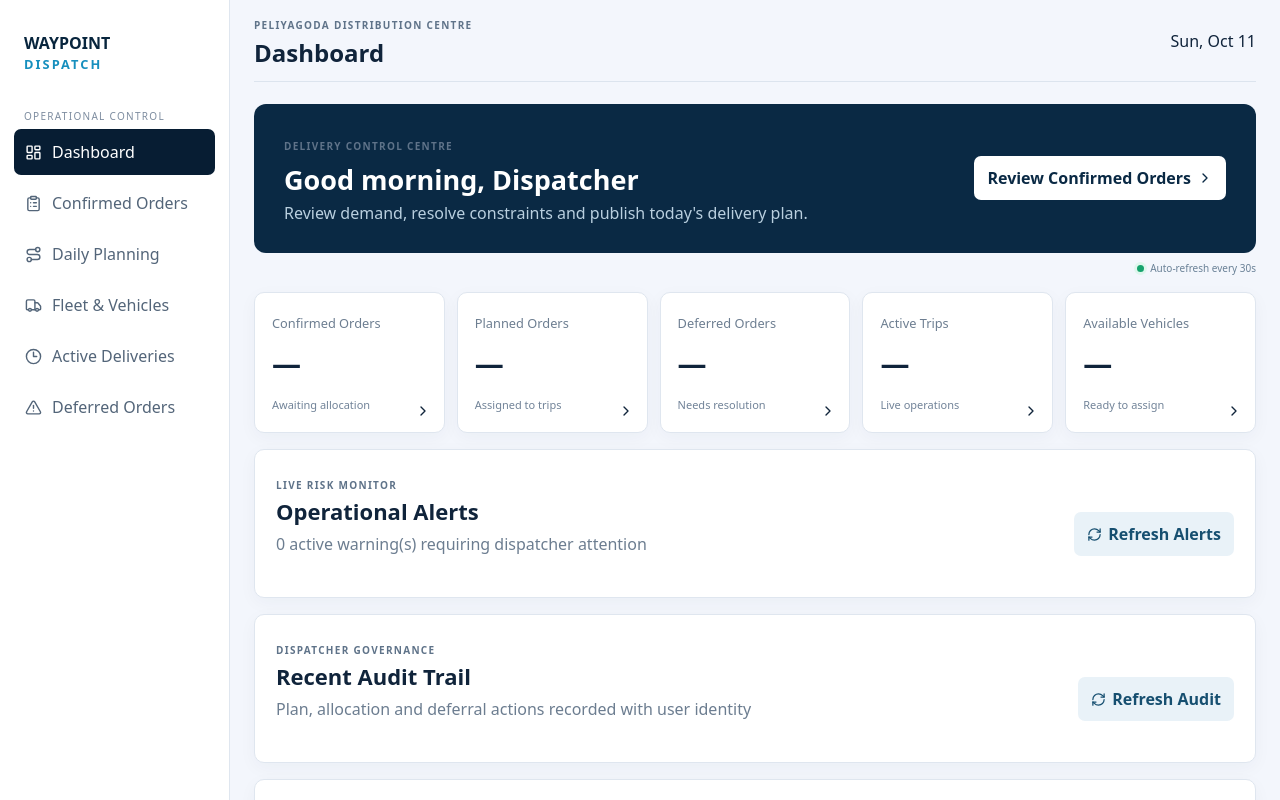
Test: DispatcherPortal › navigates to the confirmed-order queue
Click the button "Confirmed Orders": (114, 203) 14,180 -> 215,226
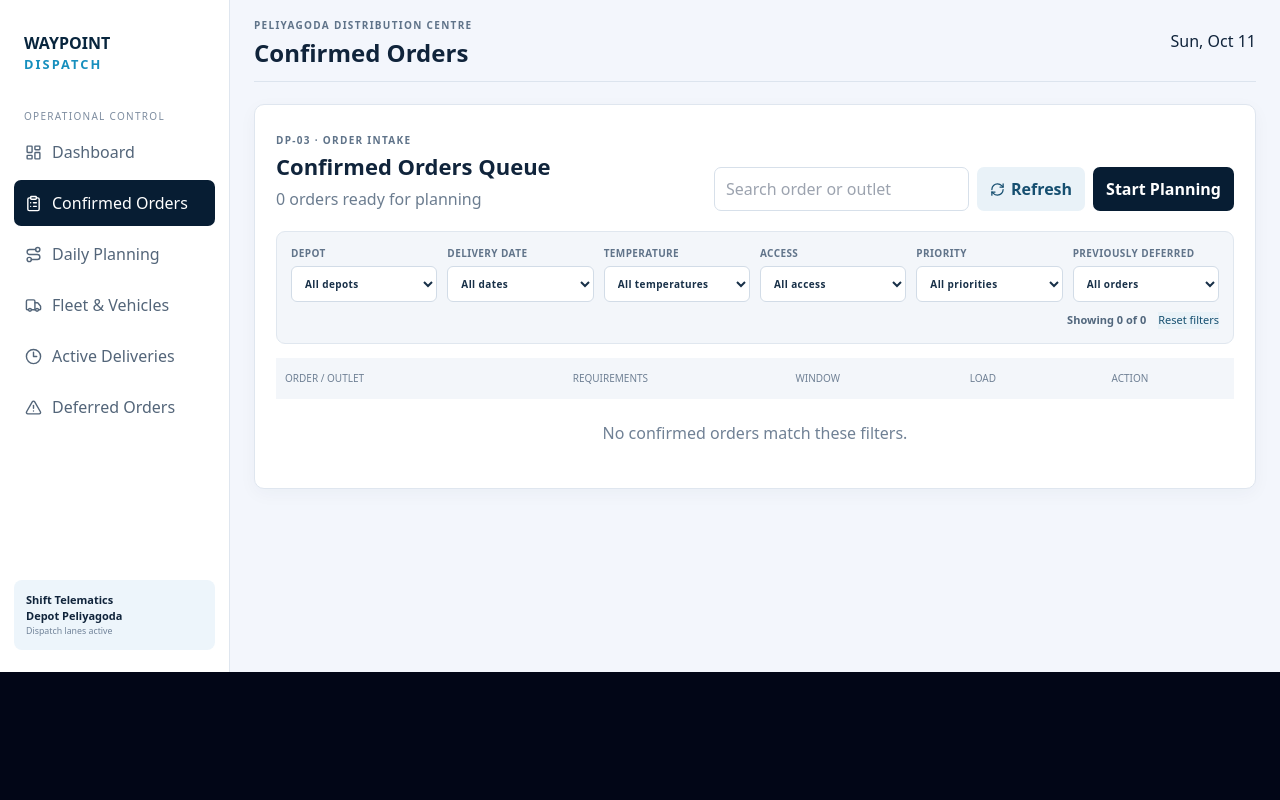
Check: the heading "Confirmed Orders Queue" is shown, box 276,150 -> 551,183
